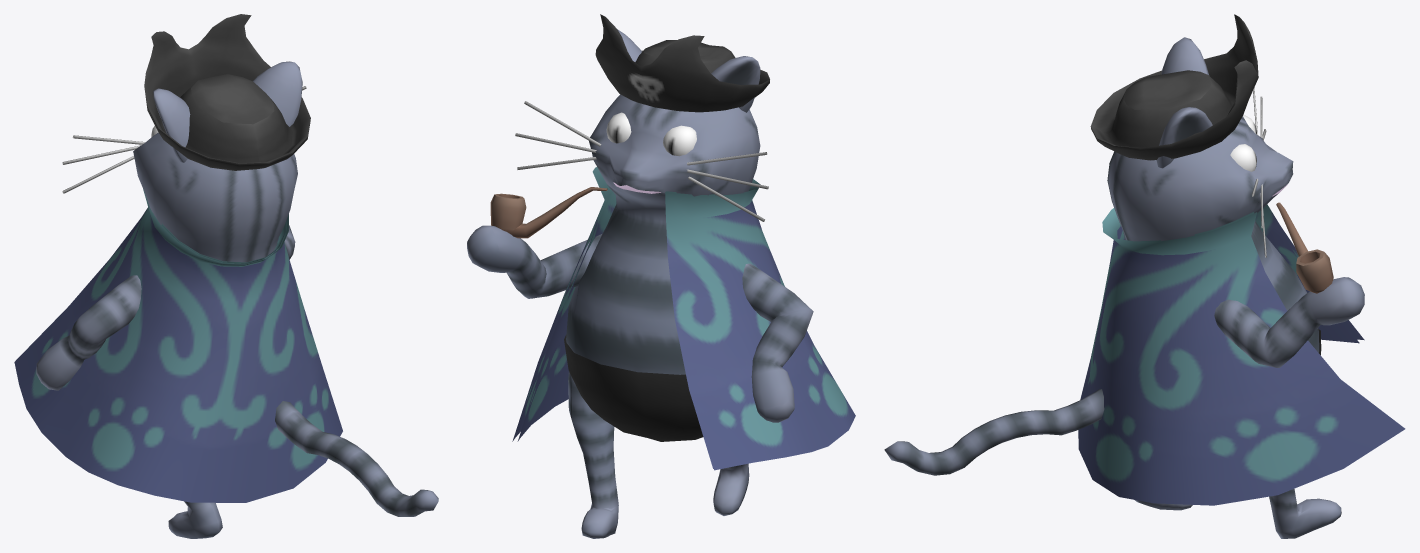
Rendered from neko_walk_a_05.fbx.
3 renders of one model, left to right at view 1: azimuth 30°, elevation 25°; view 2: azimuth 150°, elevation 25°; view 3: azimuth 270°, elevation 25°, orthographic. The views are drawn at different scales.
Visible parts, largest first — view 1: W_a_05; view 2: W_a_05; view 3: W_a_05.
Boxes of the visible parts, box(x1,y1,x2,y2) form: W_a_05: box(14, 14, 438, 538); W_a_05: box(467, 14, 855, 538); W_a_05: box(884, 14, 1405, 538).
Bounding box in the file's own units: 1.18 × 1.93 × 1.86.
1 material, 1 textured.
